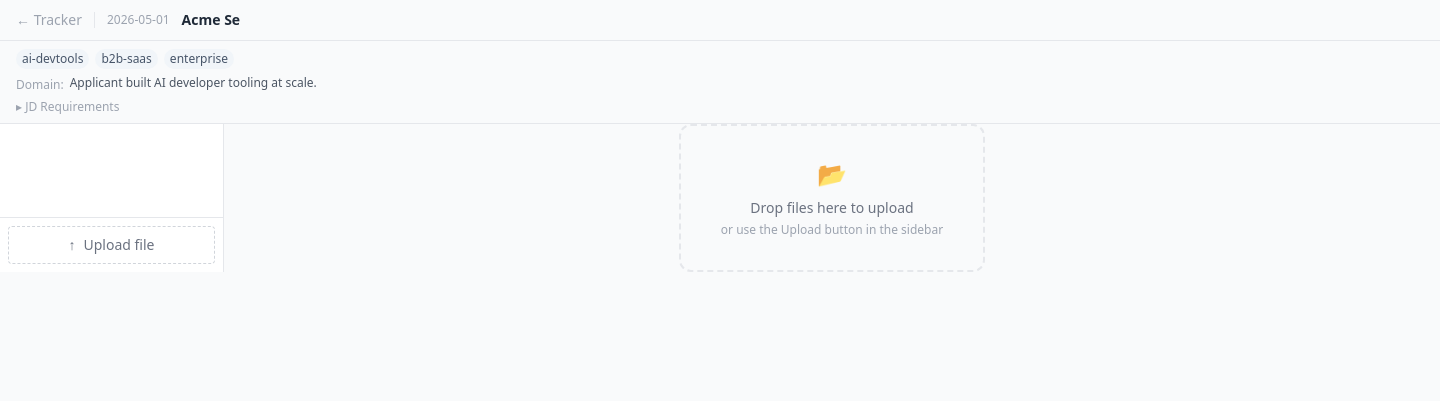
Scenario: ApplicationView — domain metadata panel › expands jd_requirements on click and shows required items
Click the button "▸ JD Requirements": (68, 107) [16,99,119,115]
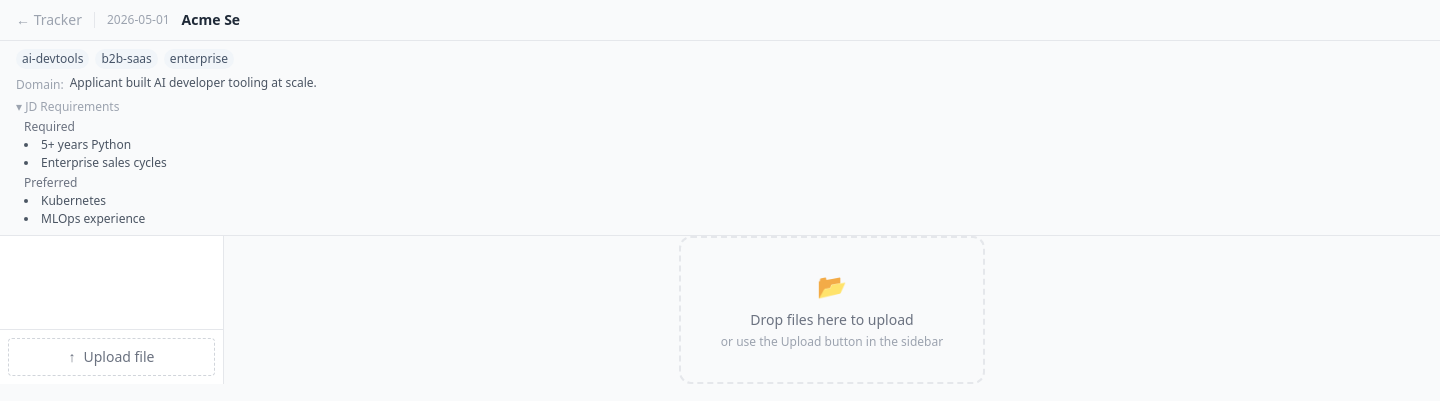
Result: the list item "5+ years Python" is shown at [41,136,131,153]
Result: the list item "Enterprise sales cycles" is shown at [41,154,167,171]
Result: the list item "Kubernetes" is shown at [41,192,106,209]
